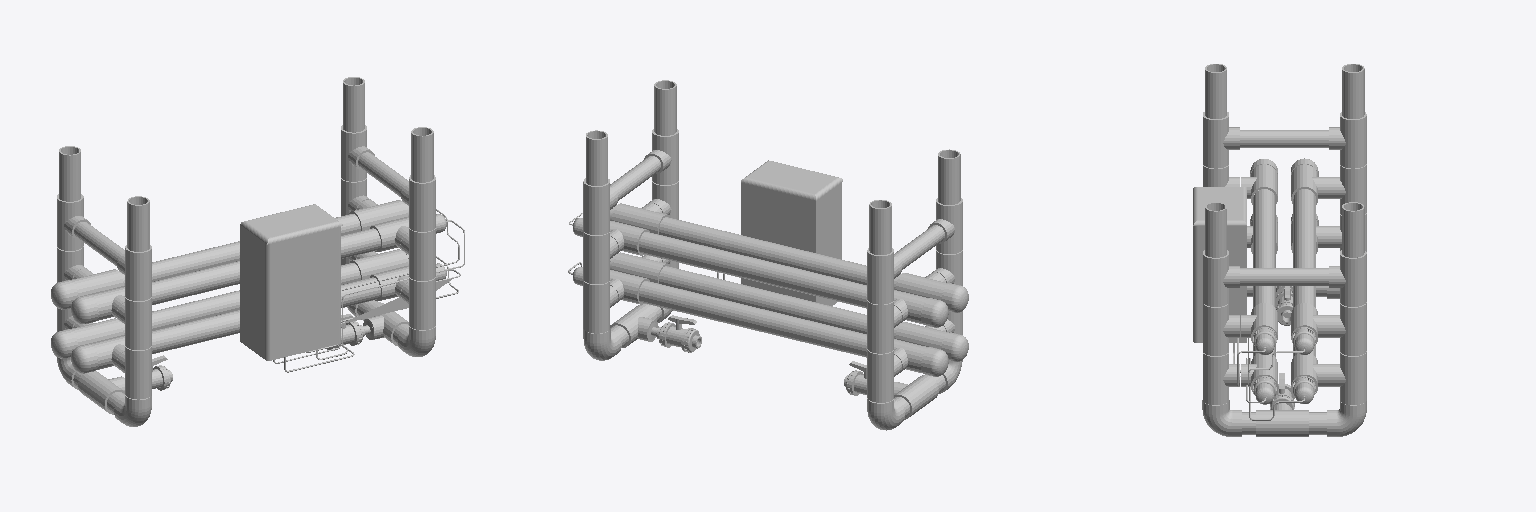
Rendered from uov.obj.
The picture shows the model from 3 angles: view 1: azimuth 30°, elevation 25°; view 2: azimuth 150°, elevation 25°; view 3: azimuth 270°, elevation 25°; orthographic projection.
Parts seen in each view (by area): view 1: Mesh117 Group122 Group117 Group1 Model, Mesh7 Group8 Group1 Model, Mesh16 Group17 Group1 Model, Mesh13 Group14 Group1 Model, Mesh121 Group127 Group1 Model, Mesh116 Group123 Group122 Group117 Group1 Model, Mesh58 Group61 Group1 Model, Mesh1 Group2 Group1 Model, Mesh2 Group3 Group1 Model, Mesh104 Group109 Group1 Model, Mesh5 Group6 Group1 Model, Mesh12 Group13 Group1 Model (+27 smaller); view 2: Mesh117 Group122 Group117 Group1 Model, Mesh121 Group127 Group1 Model, Mesh13 Group14 Group1 Model, Mesh7 Group8 Group1 Model, Mesh16 Group17 Group1 Model, Mesh116 Group123 Group122 Group117 Group1 Model, Mesh101 Group106 Group1 Model, Mesh56 Group59 Group1 Model, Mesh14 Group15 Group1 Model, Mesh110 Group115 Group1 Model, Mesh100 Group105 Group1 Model, Mesh10 Group11 Group1 Model (+26 smaller); view 3: Mesh117 Group122 Group117 Group1 Model, Mesh13 Group14 Group1 Model, Mesh7 Group8 Group1 Model, Mesh56 Group59 Group1 Model, Mesh111 Group116 Group1 Model, Mesh124 Group130 Group1 Model, Mesh101 Group106 Group1 Model, Mesh14 Group15 Group1 Model, Mesh110 Group115 Group1 Model, Mesh1 Group2 Group1 Model, Mesh58 Group61 Group1 Model, Mesh2 Group3 Group1 Model (+18 smaller).
Boxes of the visible parts, <box> form: Mesh117 Group122 Group117 Group1 Model: <box>240,204,342,360</box>; Mesh7 Group8 Group1 Model: <box>152,228,380,304</box>; Mesh16 Group17 Group1 Model: <box>152,277,380,353</box>; Mesh13 Group14 Group1 Model: <box>119,214,360,286</box>; Mesh121 Group127 Group1 Model: <box>119,263,360,335</box>; Mesh116 Group123 Group122 Group117 Group1 Model: <box>247,205,335,237</box>; Mesh58 Group61 Group1 Model: <box>401,175,435,231</box>; Mesh1 Group2 Group1 Model: <box>117,245,151,300</box>; Mesh2 Group3 Group1 Model: <box>401,228,435,280</box>; Mesh104 Group109 Group1 Model: <box>117,346,151,399</box>; Mesh5 Group6 Group1 Model: <box>401,277,435,329</box>; Mesh12 Group13 Group1 Model: <box>117,297,151,349</box>; Mesh117 Group122 Group117 Group1 Model: <box>741,160,842,305</box>; Mesh121 Group127 Group1 Model: <box>639,281,866,357</box>; Mesh13 Group14 Group1 Model: <box>639,232,866,308</box>; Mesh7 Group8 Group1 Model: <box>659,217,900,289</box>; Mesh16 Group17 Group1 Model: <box>659,266,900,338</box>; Mesh116 Group123 Group122 Group117 Group1 Model: <box>747,161,836,193</box>; Mesh101 Group106 Group1 Model: <box>583,178,617,234</box>; Mesh56 Group59 Group1 Model: <box>867,248,901,304</box>; Mesh14 Group15 Group1 Model: <box>583,280,618,333</box>; Mesh110 Group115 Group1 Model: <box>583,231,618,283</box>; Mesh100 Group105 Group1 Model: <box>867,349,901,402</box>; Mesh10 Group11 Group1 Model: <box>867,300,901,353</box>; Mesh117 Group122 Group117 Group1 Model: <box>1193,187,1246,342</box>; Mesh13 Group14 Group1 Model: <box>1293,189,1315,307</box>; Mesh7 Group8 Group1 Model: <box>1253,189,1275,307</box>; Mesh56 Group59 Group1 Model: <box>1329,112,1366,168</box>; Mesh111 Group116 Group1 Model: <box>1240,268,1328,285</box>; Mesh124 Group130 Group1 Model: <box>1240,130,1328,147</box>; Mesh101 Group106 Group1 Model: <box>1329,250,1366,306</box>; Mesh14 Group15 Group1 Model: <box>1329,351,1366,404</box>; Mesh110 Group115 Group1 Model: <box>1329,302,1366,355</box>; Mesh1 Group2 Group1 Model: <box>1203,112,1239,168</box>; Mesh58 Group61 Group1 Model: <box>1203,250,1239,306</box>; Mesh2 Group3 Group1 Model: <box>1203,304,1239,355</box>.
Bounding box in the file's own units: 0.9725 × 0.561 × 0.3846.